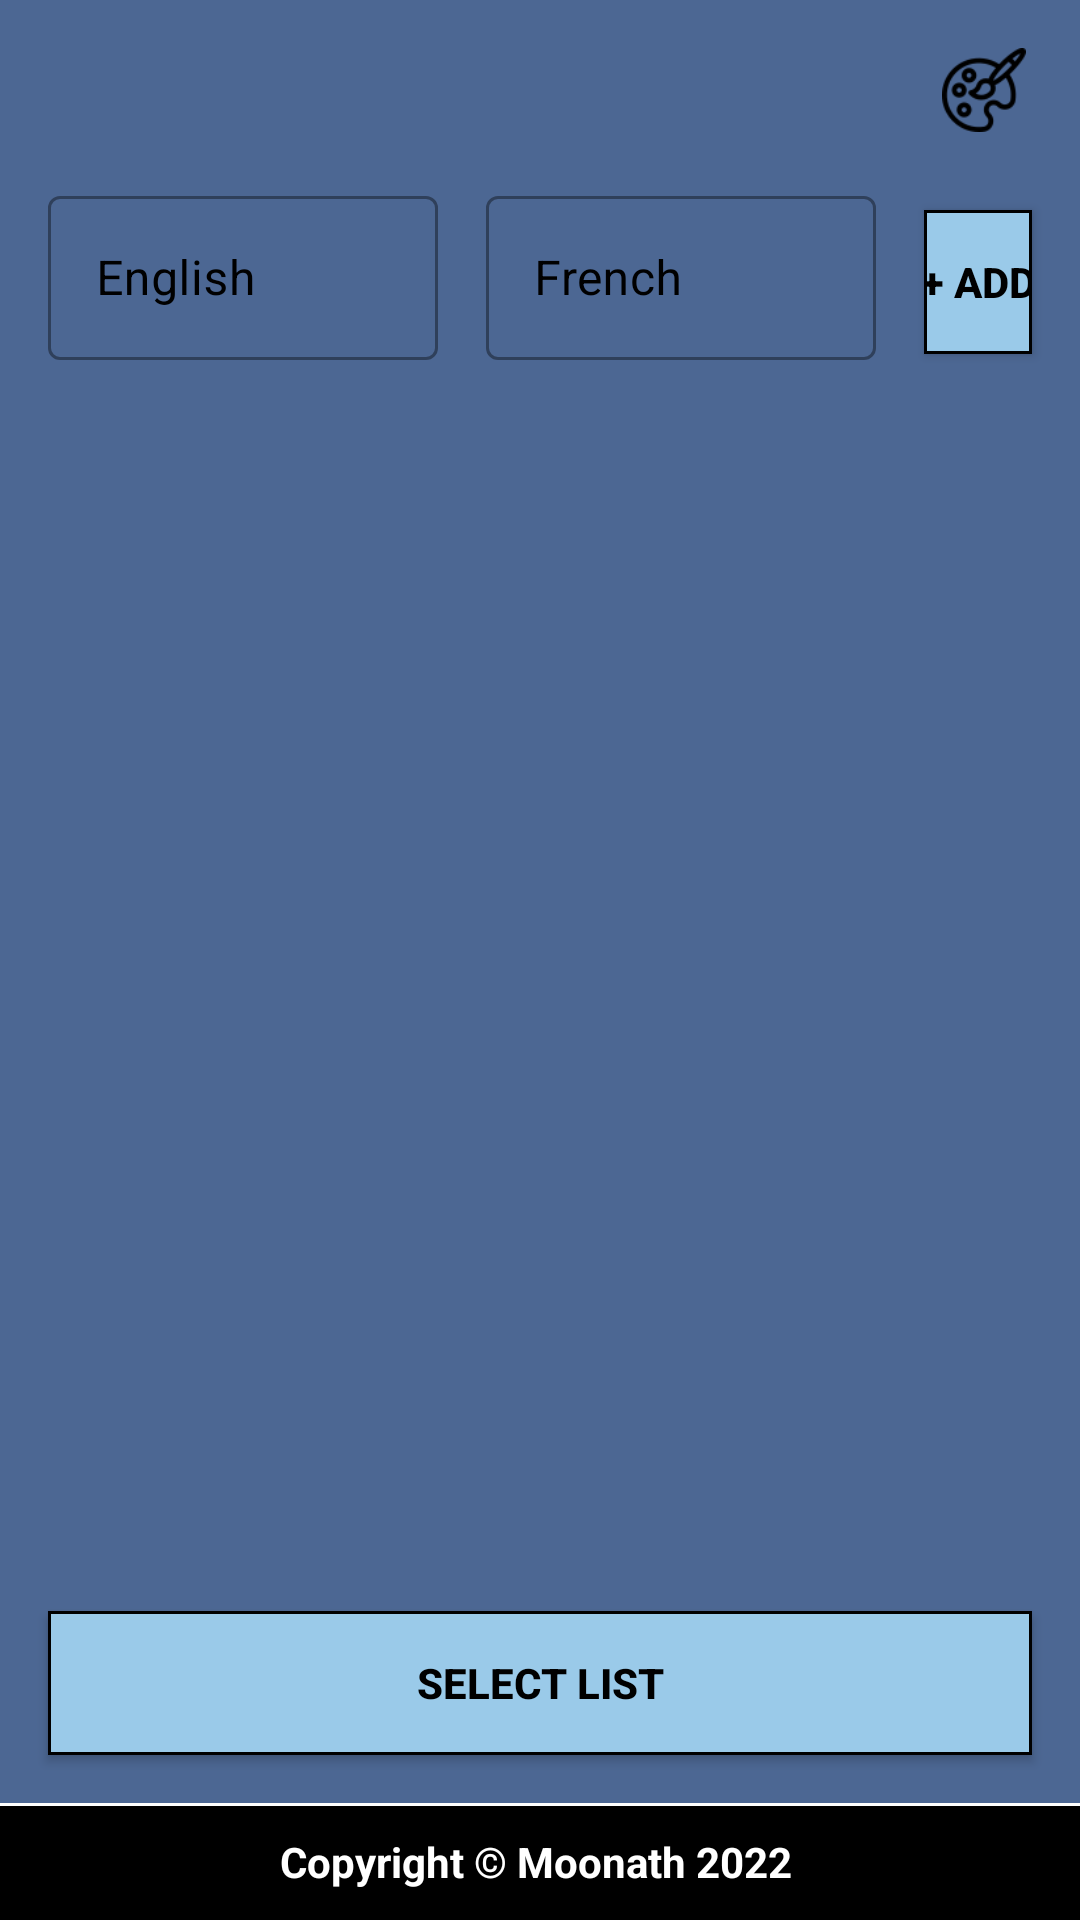

Locate icon controls on the screen. Image size 1080w x 1920h, boxes as (x1=x1, y1=y1, x2=x2, y2=y2).
paint: (x1=942, y1=48, x2=1026, y2=132)
